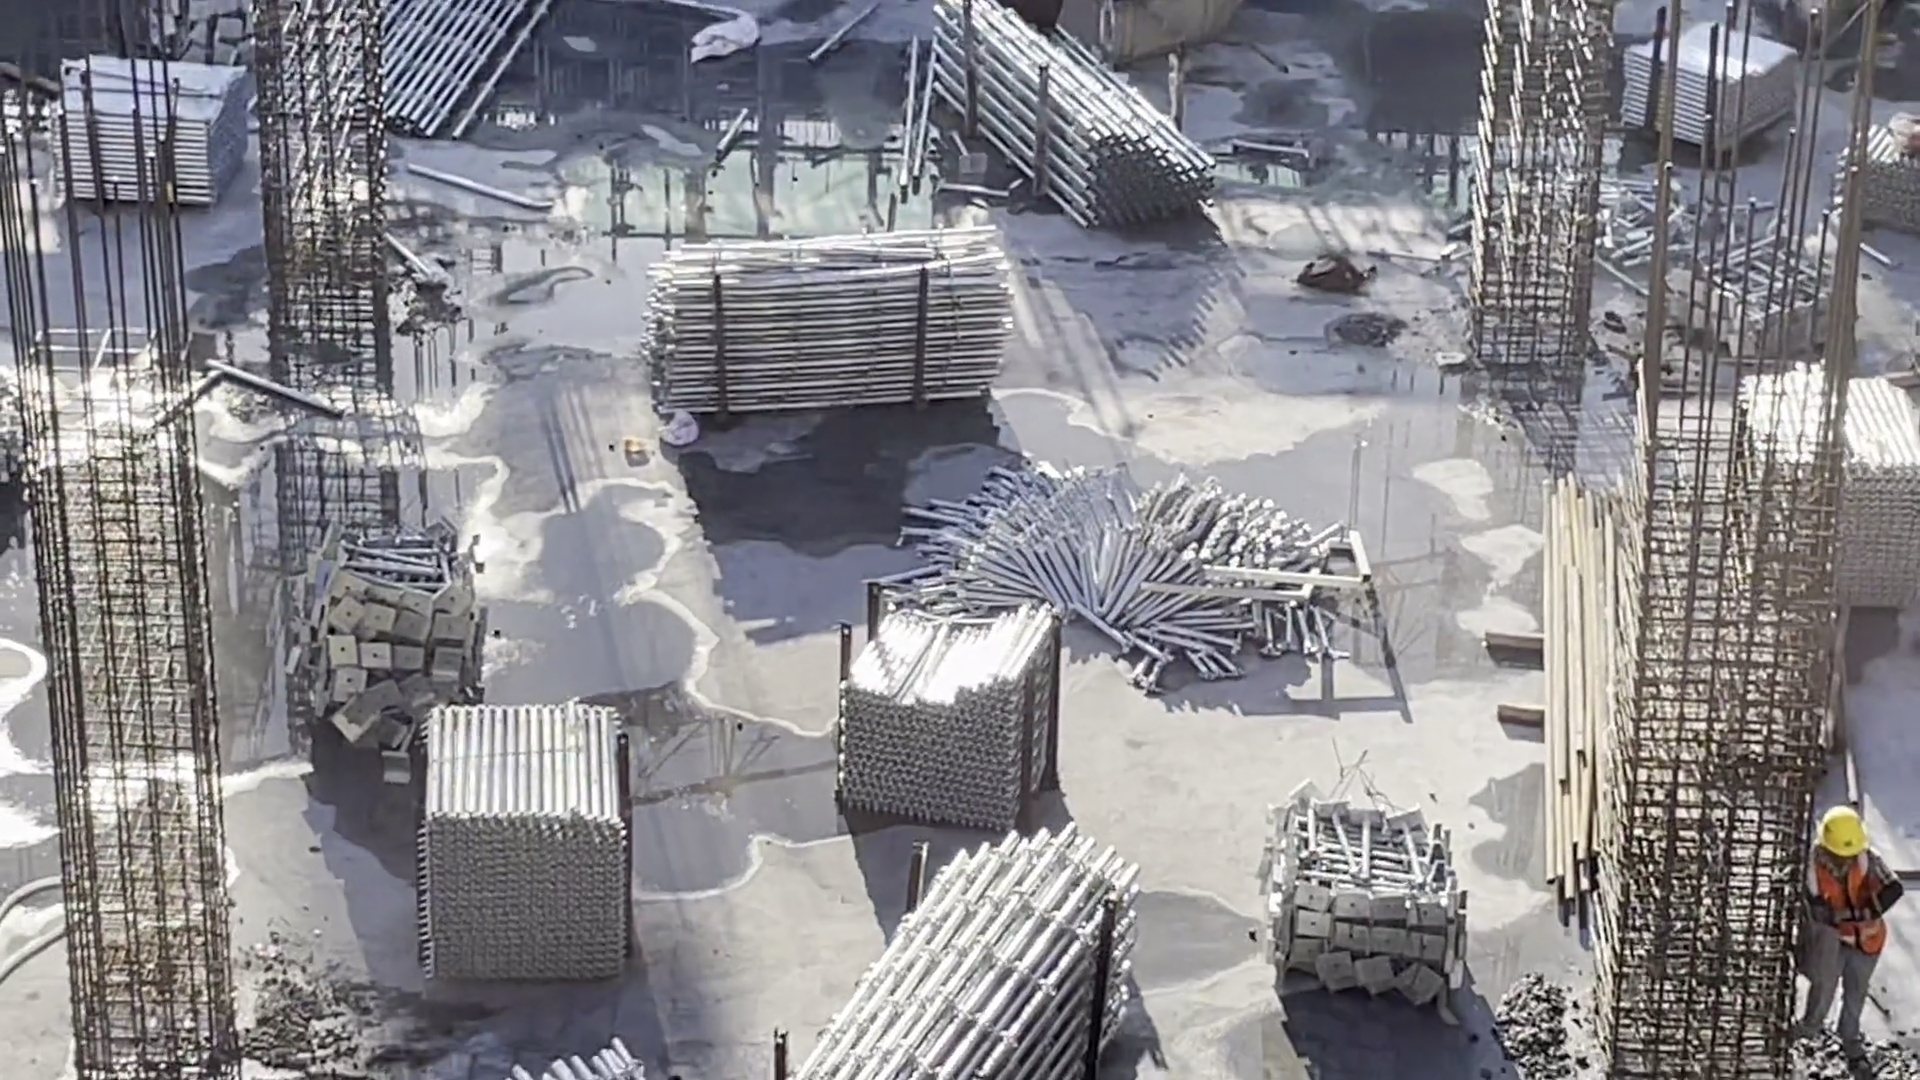helmet: (1814, 804, 1867, 856)
person: (1793, 791, 1912, 1065)
scaffold: (897, 432, 1368, 705), (769, 837, 1134, 1080), (634, 230, 1033, 423), (943, 1, 1220, 241), (402, 707, 645, 976), (1706, 365, 1920, 636), (842, 602, 1064, 828), (288, 537, 506, 760), (1277, 793, 1471, 1008), (309, 1, 564, 142), (48, 50, 258, 204), (1616, 199, 1832, 336), (1614, 31, 1804, 169), (1832, 136, 1920, 240)
vest: (1812, 855, 1889, 944)
